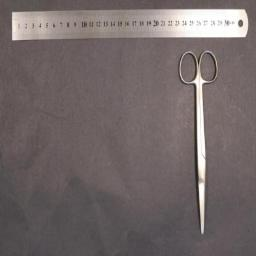Curved Mayo Scissors: (179, 46, 219, 234)
